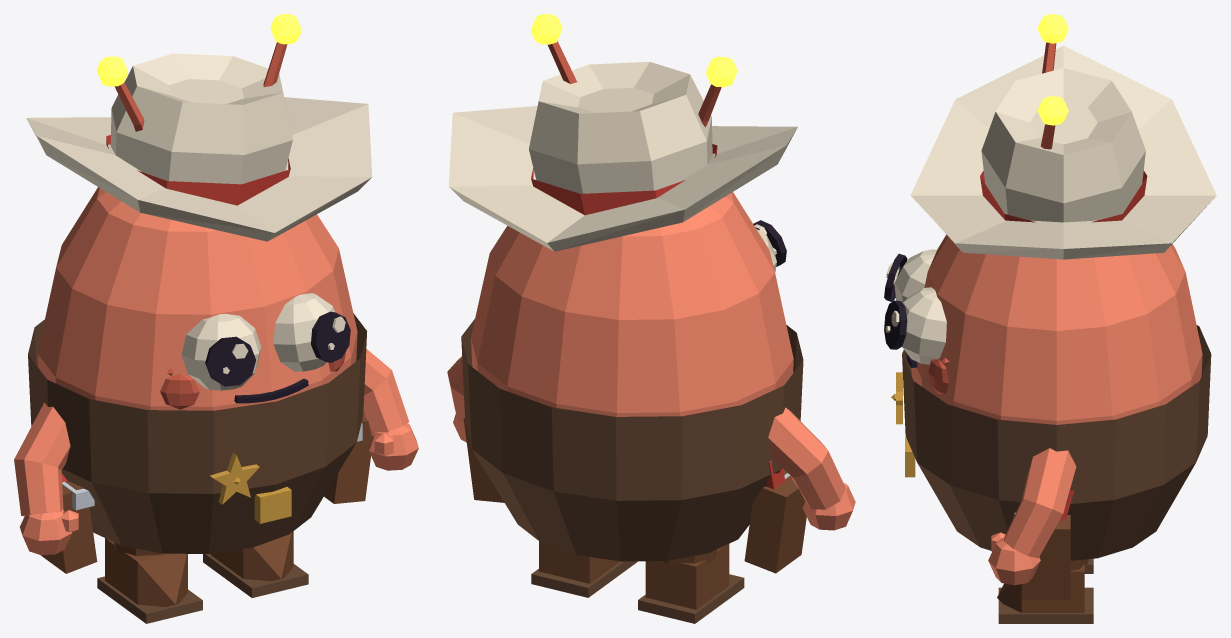
File: Char_Native_Sheriff.fbx
3 views of the same model, side by side, from view 1: azimuth 30°, elevation 25°; view 2: azimuth 150°, elevation 25°; view 3: azimuth 270°, elevation 25° (orthographic). The views are drawn at different scales.
Parts seen in each view (by area): view 1: Char_Native_Sheriff_Body, Char_Native_Sheriff_Head, Char_Native_Sheriff_Arm_R, Char_Native_Sheriff_Leg_R, Char_Native_Sheriff_Arm_L, Char_Native_Sheriff_Leg_L; view 2: Char_Native_Sheriff_Body, Char_Native_Sheriff_Arm_R, Char_Native_Sheriff_Leg_R, Char_Native_Sheriff_Head, Char_Native_Sheriff_Leg_L, Char_Native_Sheriff_Arm_L; view 3: Char_Native_Sheriff_Body, Char_Native_Sheriff_Head, Char_Native_Sheriff_Arm_L, Char_Native_Sheriff_Leg_L.
Boxes of the visible parts, x1,y1,x2,y2 form: Char_Native_Sheriff_Body: (26,53,372,573); Char_Native_Sheriff_Head: (97,14,350,409); Char_Native_Sheriff_Arm_R: (14,402,78,555); Char_Native_Sheriff_Leg_R: (97,538,202,623); Char_Native_Sheriff_Arm_L: (363,349,418,470); Char_Native_Sheriff_Leg_L: (203,531,308,597); Char_Native_Sheriff_Body: (448,61,806,573); Char_Native_Sheriff_Arm_R: (768,407,855,530); Char_Native_Sheriff_Leg_R: (638,544,744,623); Char_Native_Sheriff_Head: (531,14,786,272); Char_Native_Sheriff_Leg_L: (531,541,637,597); Char_Native_Sheriff_Arm_L: (447,356,466,442); Char_Native_Sheriff_Body: (891,45,1216,600); Char_Native_Sheriff_Head: (884,14,1068,394); Char_Native_Sheriff_Arm_L: (988,448,1076,585); Char_Native_Sheriff_Leg_L: (997,559,1093,623).
Size of the model in its own units: 1.25 by 1.67 by 0.9476.
